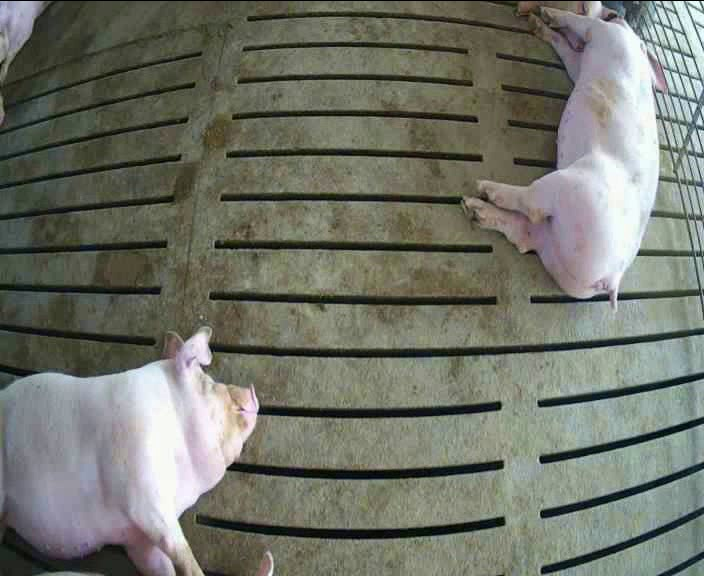pig: (0, 327, 258, 574), (464, 7, 664, 310)
